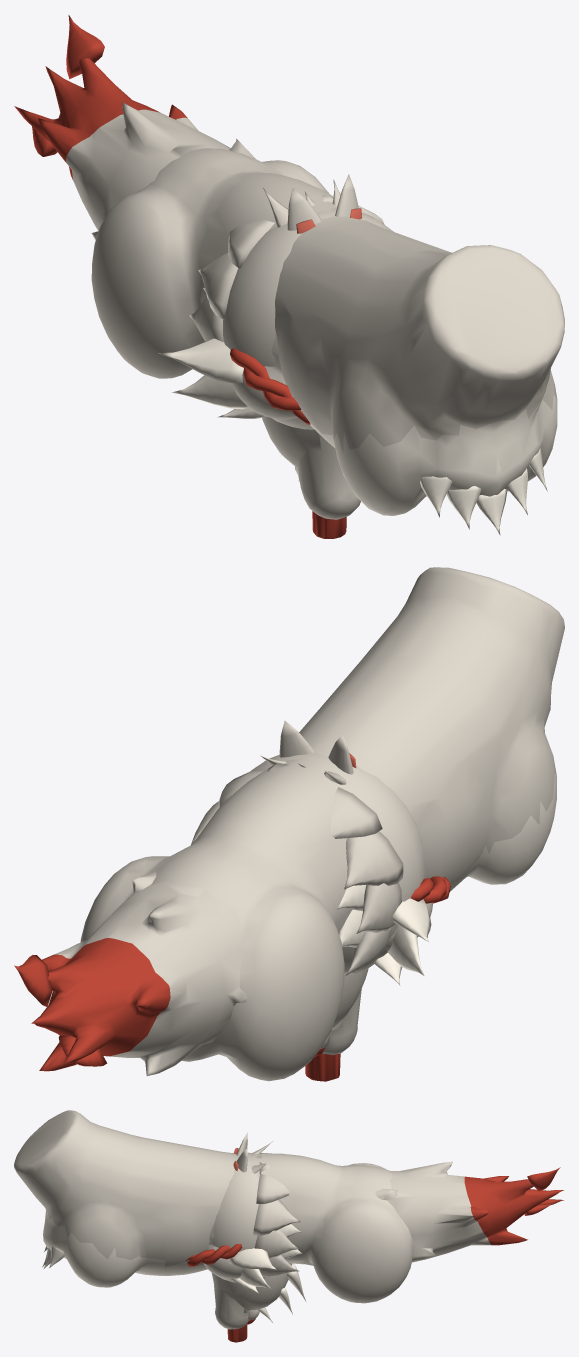
File: kitsune.glb
The picture shows the model from 3 angles, top to bottom: view 1: azimuth 30°, elevation 25°; view 2: azimuth 150°, elevation 25°; view 3: azimuth 270°, elevation 25°; orthographic projection. The views are drawn at different scales.
Parts seen in each view (by area): view 1: chest, tail, neck, head, leg_hind_upper, ear_n, leg_front_lower, ear_p; view 2: chest, tail, neck, head, leg_hind_upper, leg_front_lower, ear_p; view 3: chest, tail, neck, leg_hind_upper, head.
Boxes of the visible parts, x1=… form: chest: x1=91, y1=148, x2=564, y2=535; tail: x1=14, y1=15, x2=255, y2=240; neck: x1=189, y1=195, x2=393, y2=429; head: x1=158, y1=179, x2=340, y2=419; leg_hind_upper: x1=262, y1=416, x2=360, y2=519; ear_n: x1=287, y1=188, x2=321, y2=233; leg_front_lower: x1=312, y1=511, x2=346, y2=538; ear_p: x1=335, y1=174, x2=362, y2=219; chest: x1=80, y1=567, x2=564, y2=1081; tail: x1=14, y1=871, x2=247, y2=1075; neck: x1=191, y1=753, x2=450, y2=975; head: x1=260, y1=755, x2=432, y2=985; leg_hind_upper: x1=322, y1=968, x2=368, y2=1054; leg_front_lower: x1=305, y1=1054, x2=340, y2=1081; ear_p: x1=279, y1=720, x2=314, y2=757; chest: x1=14, y1=1110, x2=413, y2=1303; tail: x1=299, y1=1161, x2=563, y2=1265; neck: x1=185, y1=1152, x2=302, y2=1282; leg_hind_upper: x1=211, y1=1263, x2=306, y2=1329; head: x1=203, y1=1140, x2=276, y2=1293.
Bounding box in the file's own units: 17.66 × 23.68 × 52.99.
